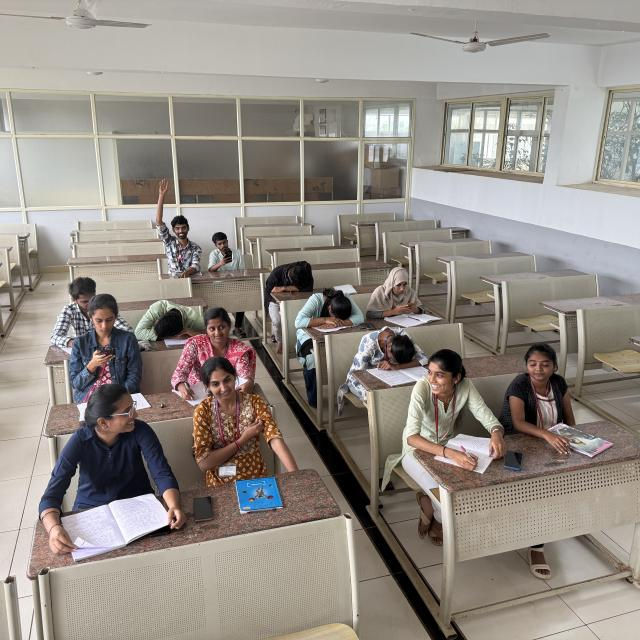Hand Rising: (146, 178, 202, 274)
Reading: (32, 383, 177, 553)
Sleeping: (350, 326, 429, 374), (137, 291, 205, 341), (294, 287, 366, 328), (266, 258, 320, 298)
Using Phone: (64, 298, 144, 398), (371, 262, 435, 317), (206, 227, 246, 270)
Writing: (407, 343, 503, 468), (187, 310, 255, 394)
